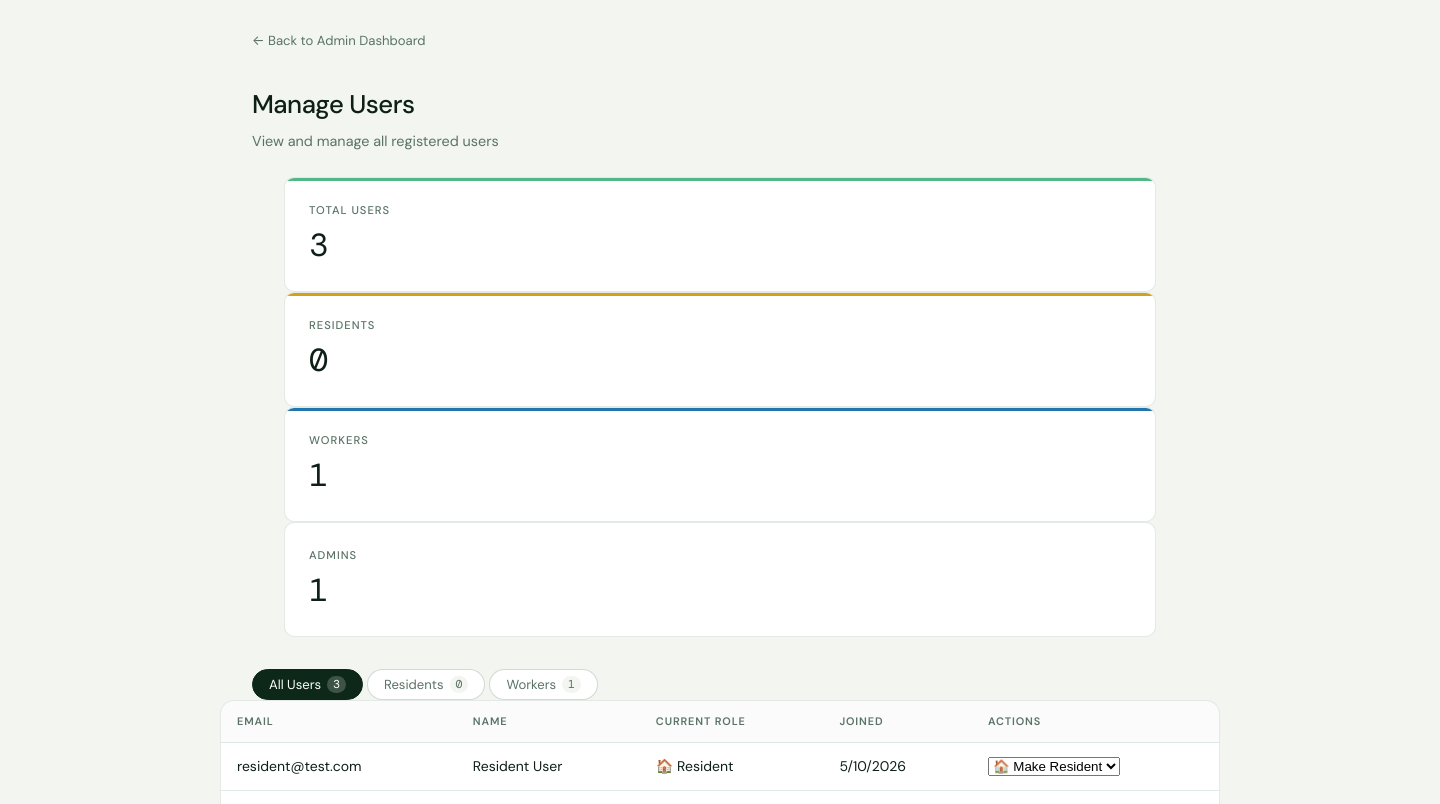
changes user role successfully
Select "🔧 Make Worker" in the dropdown named "Change role for resident@test.com": (1054, 767) [988,757,1120,776]
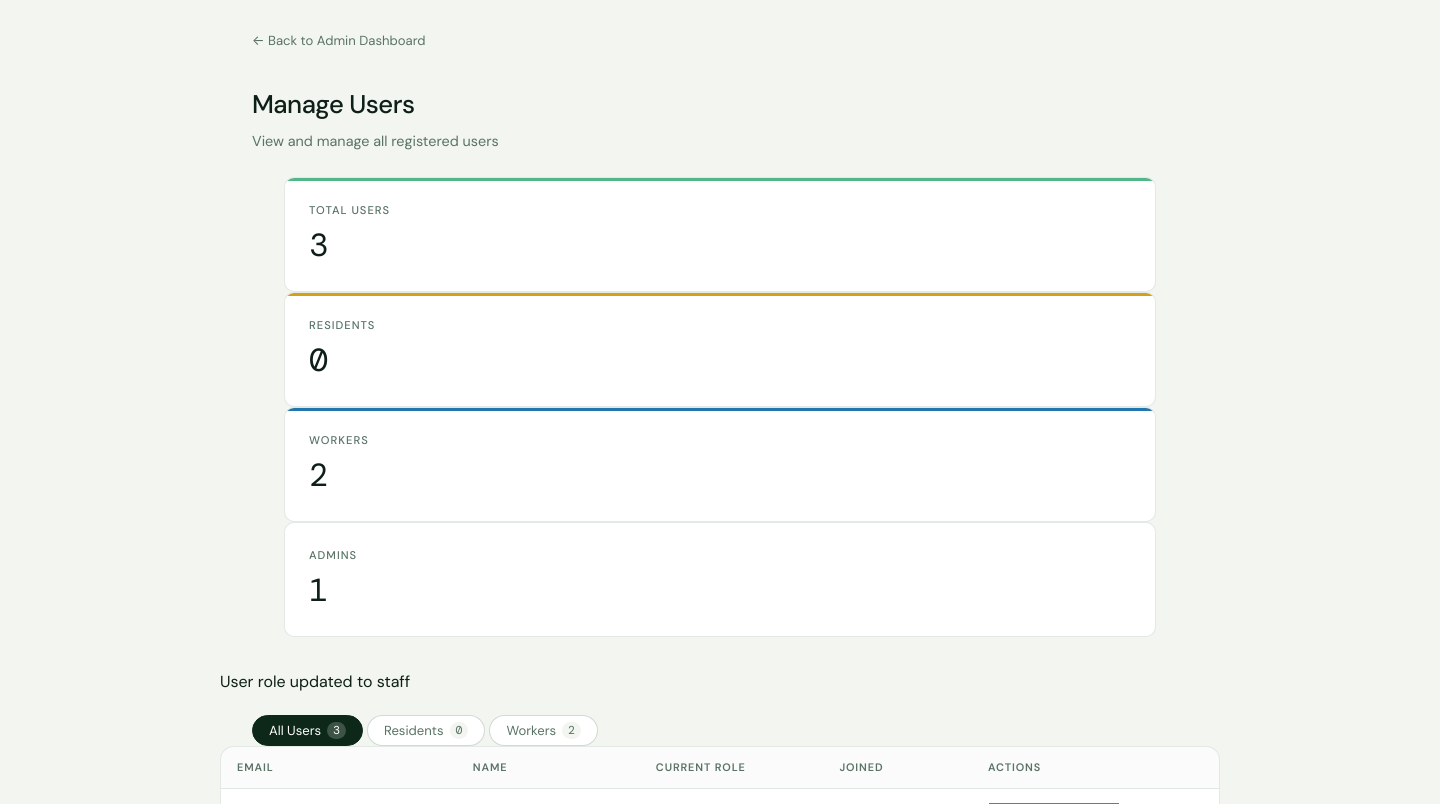
Check: the text "User role updated to staff" is shown, box [220,671,410,692]
